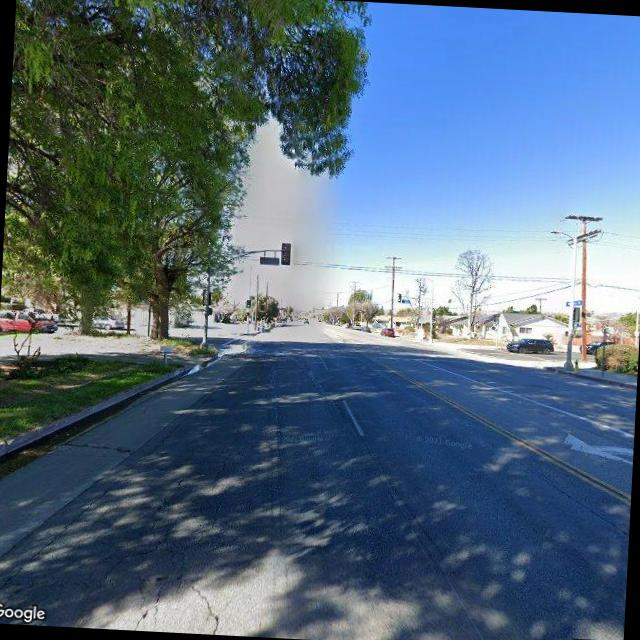crack: (92, 458, 244, 635)
